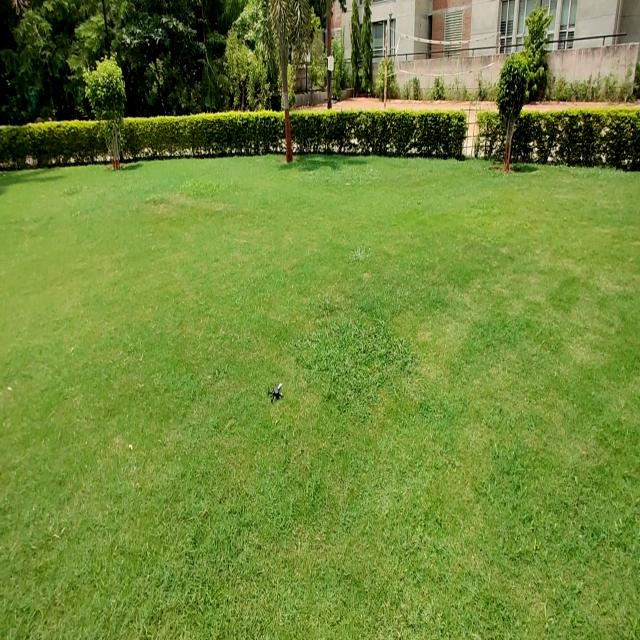drone: (265, 376, 291, 412)
